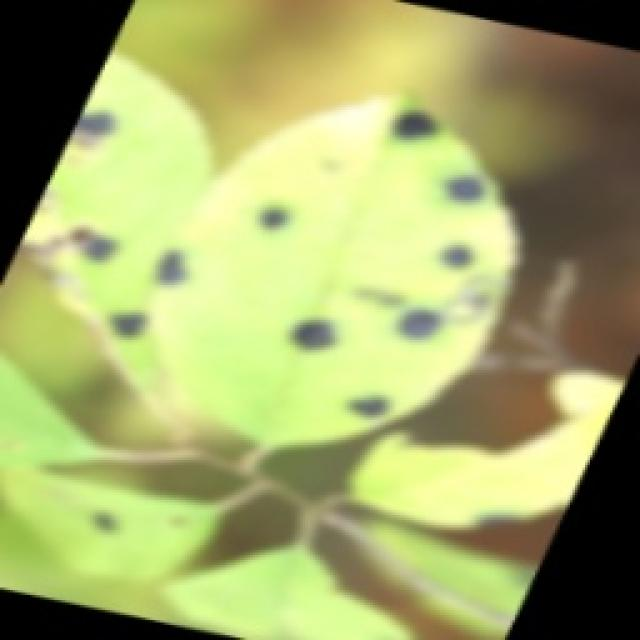Tar_Spot: (80, 99, 491, 384)
